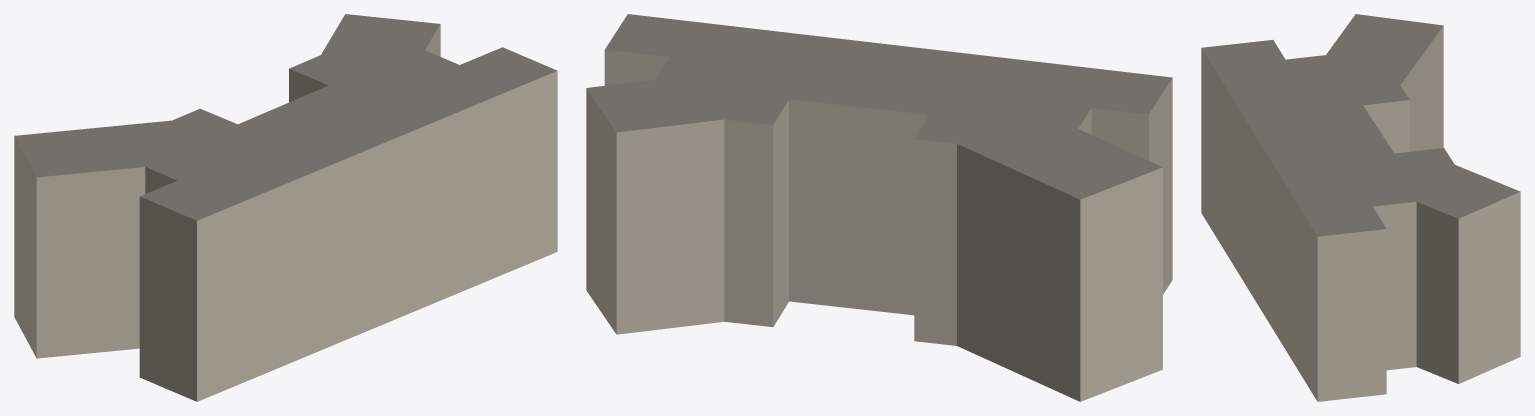
3 views of the same model, side by side, from view 1: azimuth 30°, elevation 25°; view 2: azimuth 150°, elevation 25°; view 3: azimuth 270°, elevation 25° (orthographic). The views are drawn at different scales.
Parts seen in each view (by area): view 1: HP-w1323525831; view 2: HP-w1323525831; view 3: HP-w1323525831.
Boxes of the visible parts, x1,y1,x2,y2 form: HP-w1323525831: (14,14,557,401); HP-w1323525831: (586,14,1172,401); HP-w1323525831: (1201,14,1520,401).
Bounding box in the file's own units: 52.02 × 18 × 31.51.
